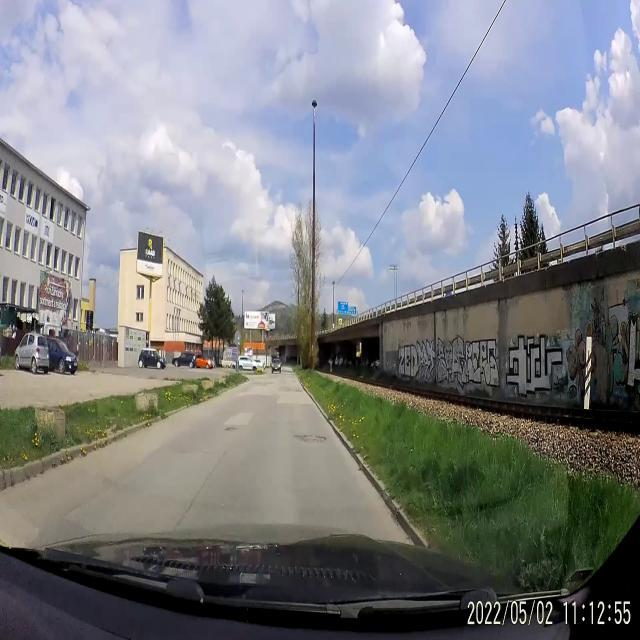Pothole: (293, 433, 327, 443), (224, 424, 238, 432)
